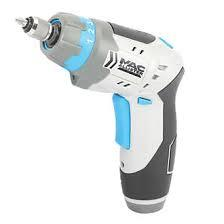screwdriver: (24, 11, 185, 215), (14, 15, 26, 26)
